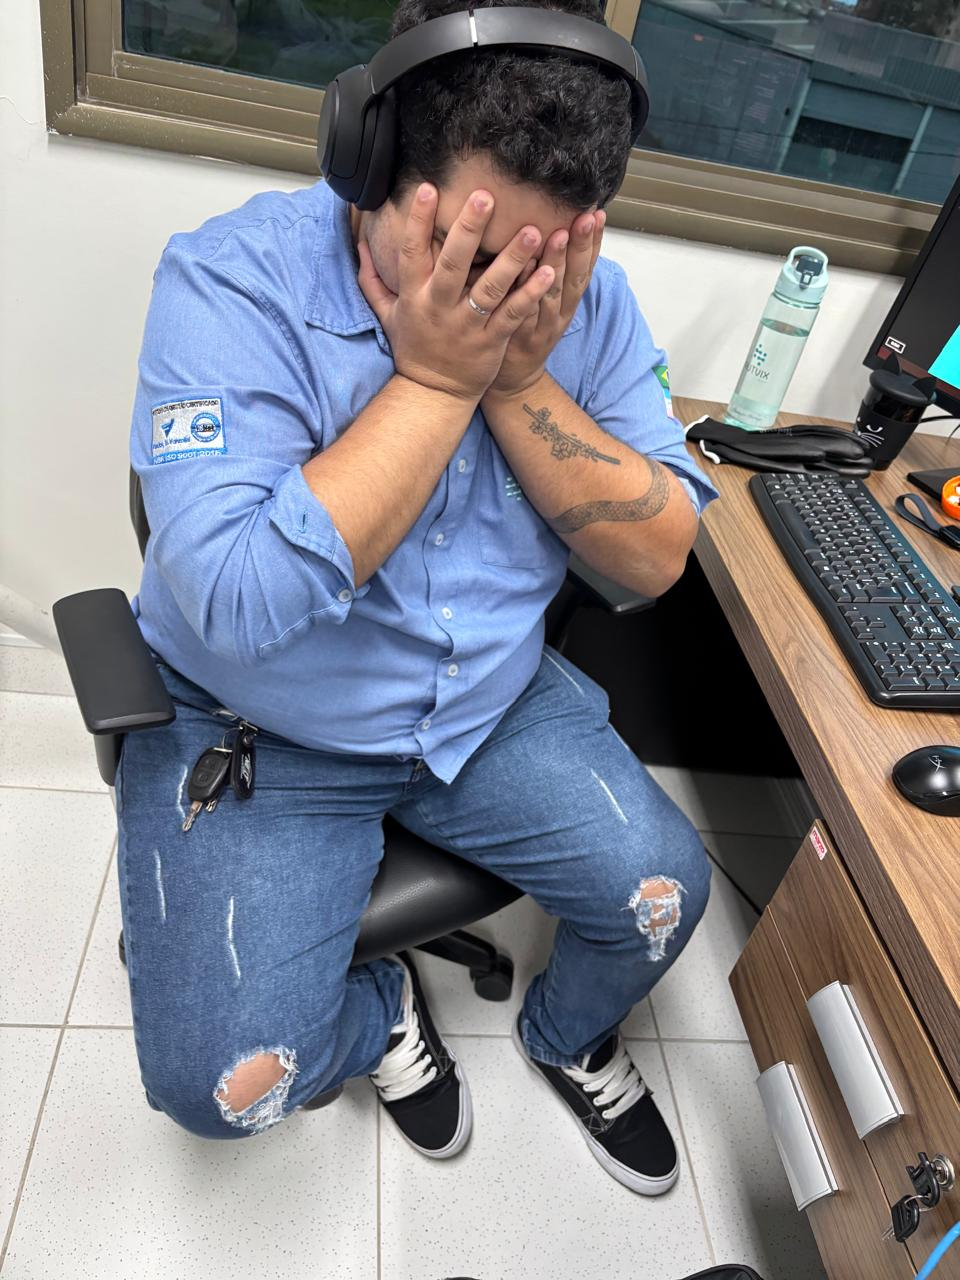no-gloves: (345, 186, 556, 398), (493, 207, 613, 382)
